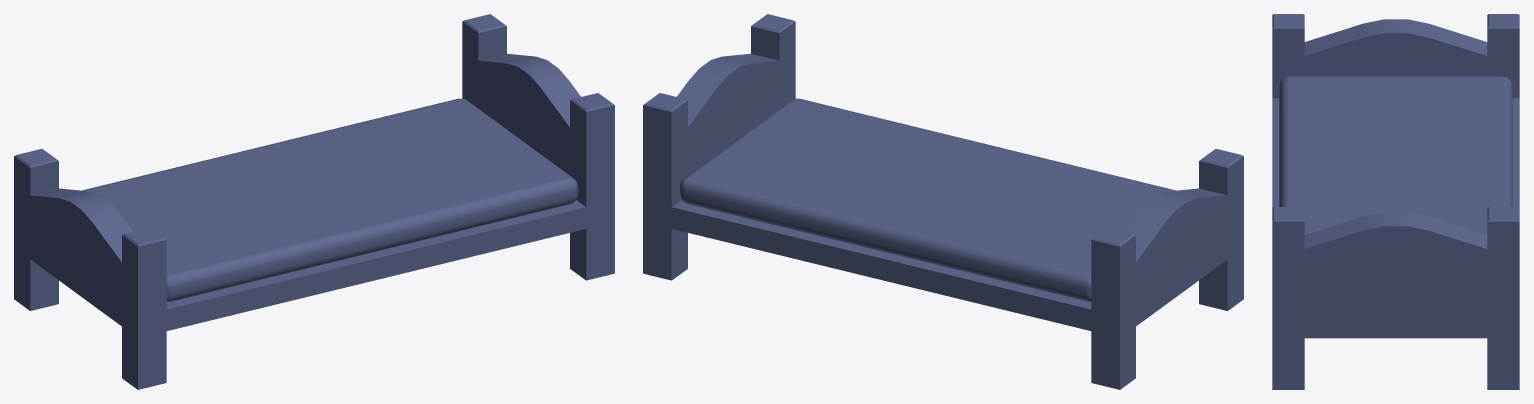
The model's file is Bed.fbx.
3 views of the same model, side by side, from view 1: azimuth 30°, elevation 25°; view 2: azimuth 150°, elevation 25°; view 3: azimuth 270°, elevation 25° (orthographic).
Parts seen in each view (by area): view 1: Mattress_01, Bed; view 2: Mattress_01, Bed; view 3: Bed, Mattress_01.
Part boxes in pixels (x1,y1,x2,y2): Mattress_01: [82, 98, 578, 301]; Bed: [14, 14, 614, 389]; Mattress_01: [679, 98, 1175, 301]; Bed: [643, 14, 1243, 389]; Bed: [1272, 14, 1519, 389]; Mattress_01: [1279, 76, 1512, 234].
Size of the model in its own units: 805 by 274 by 362.
